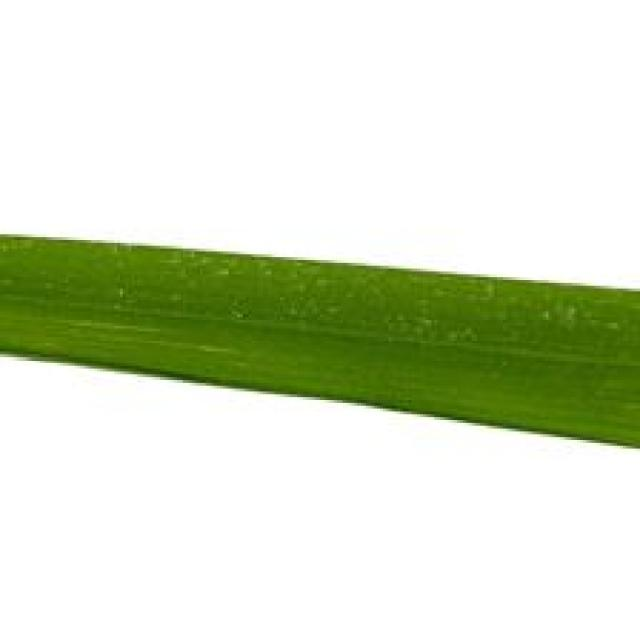Rice___Healthy_Rice_Plant: (0, 232, 637, 448)
